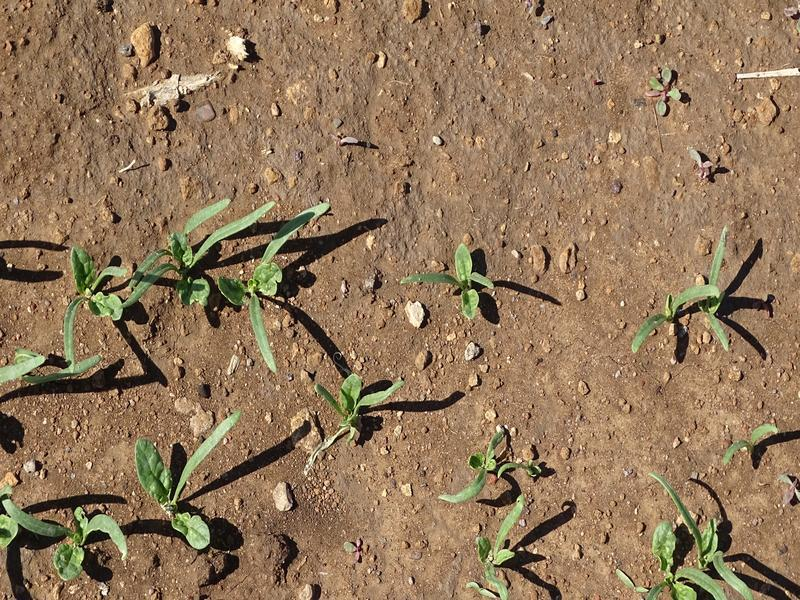Espinaca: (1, 192, 336, 393), (618, 228, 750, 354), (131, 409, 240, 551), (636, 468, 755, 597), (448, 437, 538, 592), (1, 494, 128, 575), (314, 372, 415, 439), (397, 253, 497, 308), (722, 413, 779, 464)
